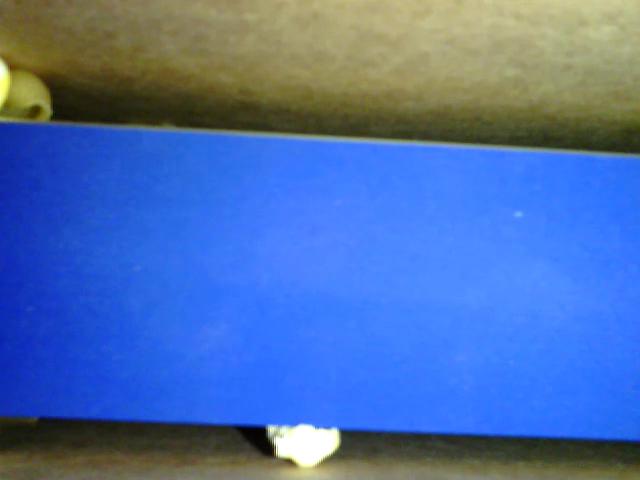shell: (2, 65, 53, 128)
